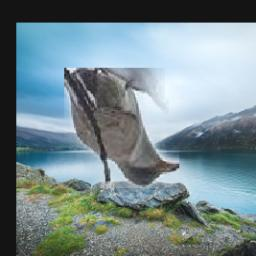Cuckoo: (64, 68, 179, 188)
